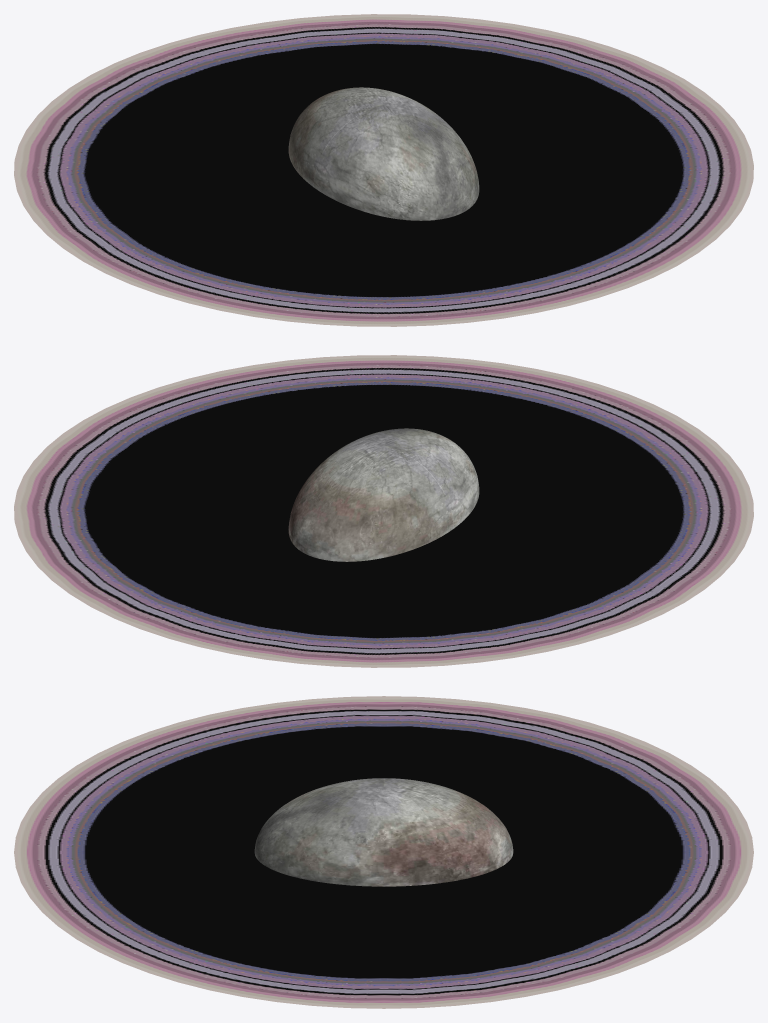
Rendered from haumea.glb.
The picture shows the model from 3 angles, top to bottom: view 1: azimuth 30°, elevation 25°; view 2: azimuth 150°, elevation 25°; view 3: azimuth 270°, elevation 25°; orthographic projection.
Parts seen in each view (by area): view 1: Circle_1, Sphere_0; view 2: Circle_1, Sphere_0; view 3: Circle_1, Sphere_0.
Part boxes in pixels (left/top/right/bottom): Circle_1: left=14, top=14, right=753, bottom=326; Sphere_0: left=288, top=87, right=479, bottom=220; Circle_1: left=14, top=355, right=753, bottom=667; Sphere_0: left=288, top=428, right=479, bottom=561; Circle_1: left=14, top=696, right=753, bottom=1008; Sphere_0: left=254, top=778, right=513, bottom=886.
Size of the model in its own units: 5.68 by 1.12 by 5.68.
Materials: 2 (2 with a texture image).
